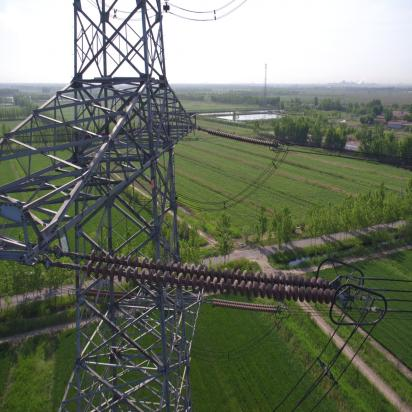insulator: (66, 248, 342, 306), (203, 127, 277, 149)
